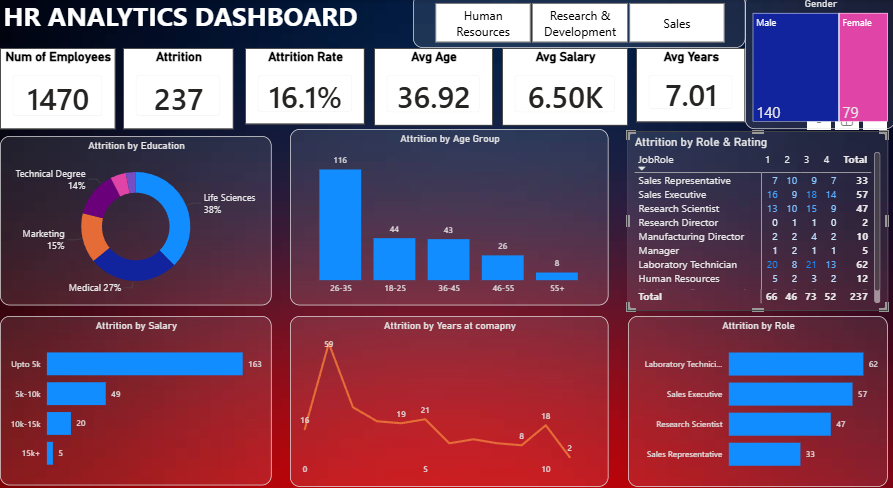

The dashboard page shown, as its layout file describes it:
{"tool":"powerbi","page":{"name":"Page 1","canvas":[1280,720],"ordinal":0},"visuals":[{"type":"cardVisual","title":"Num of Employees","fields":{"Data":["CountNonNull(HR_Analytics.EmpID)"]},"box":[0,77.3,164.6,115.9],"z":0},{"type":"cardVisual","title":"Attrition","fields":{"Data":["Sum(HR_Analytics.AttritionColumn)"]},"box":[176.4,77.3,157.9,115.9],"z":1000},{"type":"cardVisual","title":"Attrition Rate","fields":{"Data":["HR_Analytics.AttritionRate"]},"box":[349.4,77.3,171.3,109.2],"z":2000},{"type":"cardVisual","title":"Avg Age","fields":{"Data":["Avg(HR_Analytics.Age)"]},"box":[534.2,77.3,169.7,110.9],"z":3000},{"type":"cardVisual","title":"Avg Salary","fields":{"Data":["Avg(HR_Analytics.MonthlyIncome)"]},"box":[717.3,77.3,179.7,110.9],"z":4000},{"type":"cardVisual","title":"Avg Years","fields":{"Data":["Avg(HR_Analytics.YearsAtCompany)"]},"box":[908.8,77.3,156.2,105.8],"z":5000},{"type":"donutChart","title":"Attrition by Education","fields":{"Y":["Sum(HR_Analytics.AttritionColumn)"],"Category":["HR_Analytics.EducationField"]},"box":[0,202.8,387.9,242.4],"z":6000},{"type":"columnChart","title":"Attrition by Age","fields":{"Category":["HR_Analytics.AgeGroup"],"Y":["Sum(HR_Analytics.AttritionColumn)"]},"box":[414.4,194,387.9,242.4],"z":7000},{"type":"pivotTable","fields":{"Rows":["HR_Analytics.JobRole"],"Columns":["HR_Analytics.JobSatisfaction"],"Values":["Sum(HR_Analytics.AttritionColumn)"]},"box":[897.8,188.1,371.8,257.1],"z":8000},{"type":"barChart","title":"Attrition by Age","fields":{"Category":["HR_Analytics.SalarySlab"],"Y":["Sum(HR_Analytics.AttritionColumn)"]},"box":[0,460.3,388,241.9],"z":9000},{"type":"barChart","title":"Attrition by Age","fields":{"Y":["Sum(HR_Analytics.AttritionColumn)"],"Category":["HR_Analytics.JobRole"]},"box":[908.1,459.9,352.7,235.1],"z":10000},{"type":"lineChart","title":"Attrition by Age","fields":{"Category":["HR_Analytics.YearsAtCompany"],"Y":["Sum(HR_Analytics.AttritionColumn)"]},"box":[414.9,451.9,455.2,243.6],"z":11000},{"type":"treemap","title":"Attrition by Age","fields":{"Group":["HR_Analytics.Gender"],"Values":["Sum(HR_Analytics.AttritionColumn)"]},"box":[1065,0,215,193.2],"z":12000},{"type":"slicer","fields":{"Values":["HR_Analytics.Department"]},"box":[589.6,0,475.4,77.3],"z":13000},{"type":"textbox","box":[0,0,566.1,62.2],"z":13001}]}

Visuals, with their boxes in screenshot pixels (x1, y1, x2, y2), scaled from the page's 1280x720 canvas onto the 893x488 screenshot:
"Num of Employees" cardVisual: (x1=0, y1=52, x2=115, y2=131)
"Attrition" cardVisual: (x1=123, y1=52, x2=233, y2=131)
"Attrition Rate" cardVisual: (x1=244, y1=52, x2=363, y2=126)
"Avg Age" cardVisual: (x1=373, y1=52, x2=491, y2=128)
"Avg Salary" cardVisual: (x1=500, y1=52, x2=626, y2=128)
"Avg Years" cardVisual: (x1=634, y1=52, x2=743, y2=124)
"Attrition by Education" donutChart: (x1=0, y1=137, x2=271, y2=302)
"Attrition by Age" columnChart: (x1=289, y1=131, x2=560, y2=296)
pivotTable - HR_Analytics.JobRole x HR_Analytics.JobSatisfaction: (x1=626, y1=127, x2=886, y2=302)
"Attrition by Age" barChart: (x1=0, y1=312, x2=271, y2=476)
"Attrition by Age" barChart: (x1=634, y1=312, x2=880, y2=471)
"Attrition by Age" lineChart: (x1=289, y1=306, x2=607, y2=471)
"Attrition by Age" treemap: (x1=743, y1=0, x2=892, y2=131)
slicer - HR_Analytics.Department: (x1=411, y1=0, x2=743, y2=52)
textbox: (x1=0, y1=0, x2=395, y2=42)
